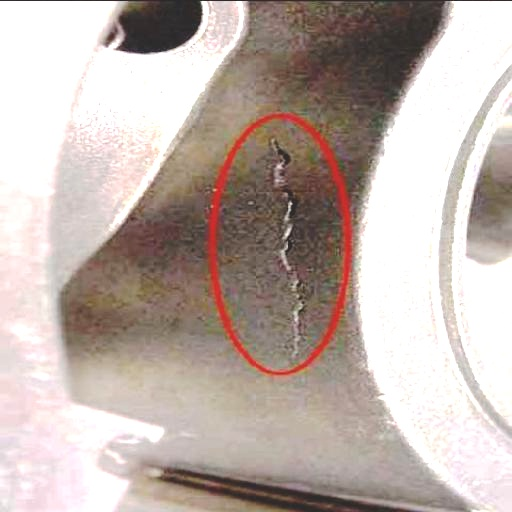crack: (246, 137, 318, 366)
